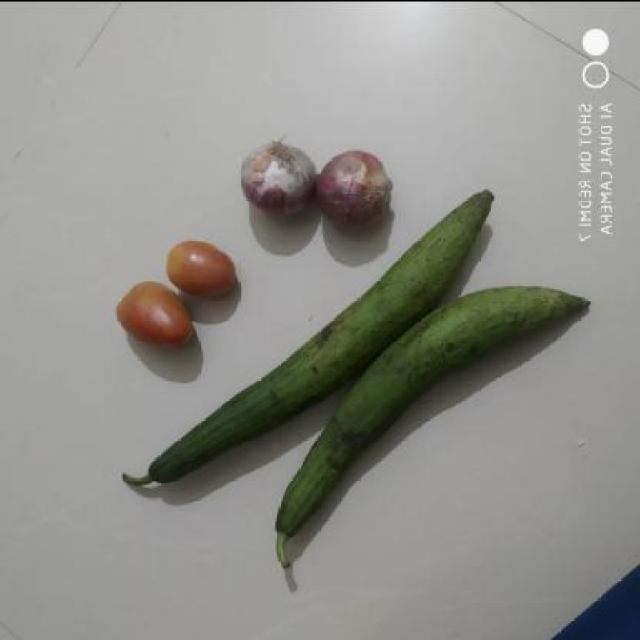Onion: (235, 137, 318, 217), (316, 149, 398, 229)
Sponge Gourd: (257, 250, 605, 602)
Tomato: (114, 278, 197, 348), (166, 237, 240, 296)
